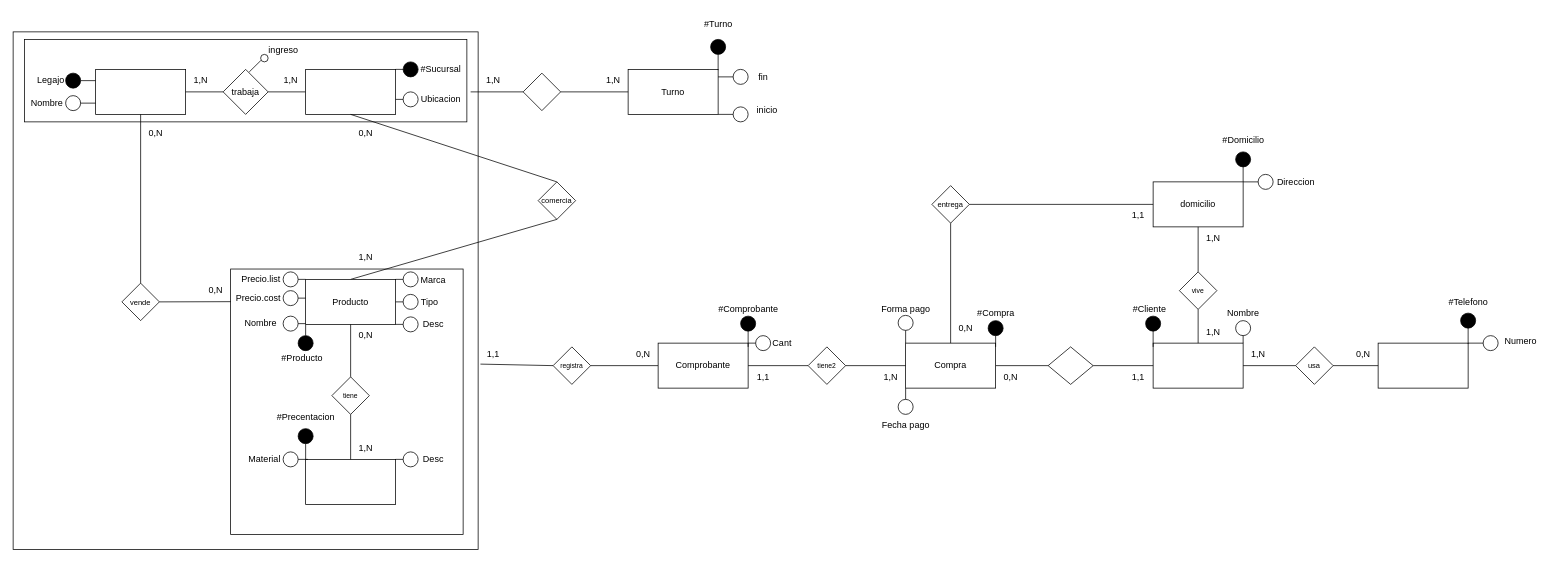
Image size: 1560x563. Some labels were removed from this diagram. The box of each missing label's shape, as (x1, y1, x2, y2) in pixels:
Cliente: (1152, 342, 1243, 388)
cumple: (522, 72, 561, 111)
pertenece: (1047, 346, 1093, 384)
Precentacion: (305, 459, 396, 504)
Sucursal: (305, 69, 396, 114)
telefono: (1377, 342, 1468, 388)
Vendedor: (95, 69, 186, 114)
